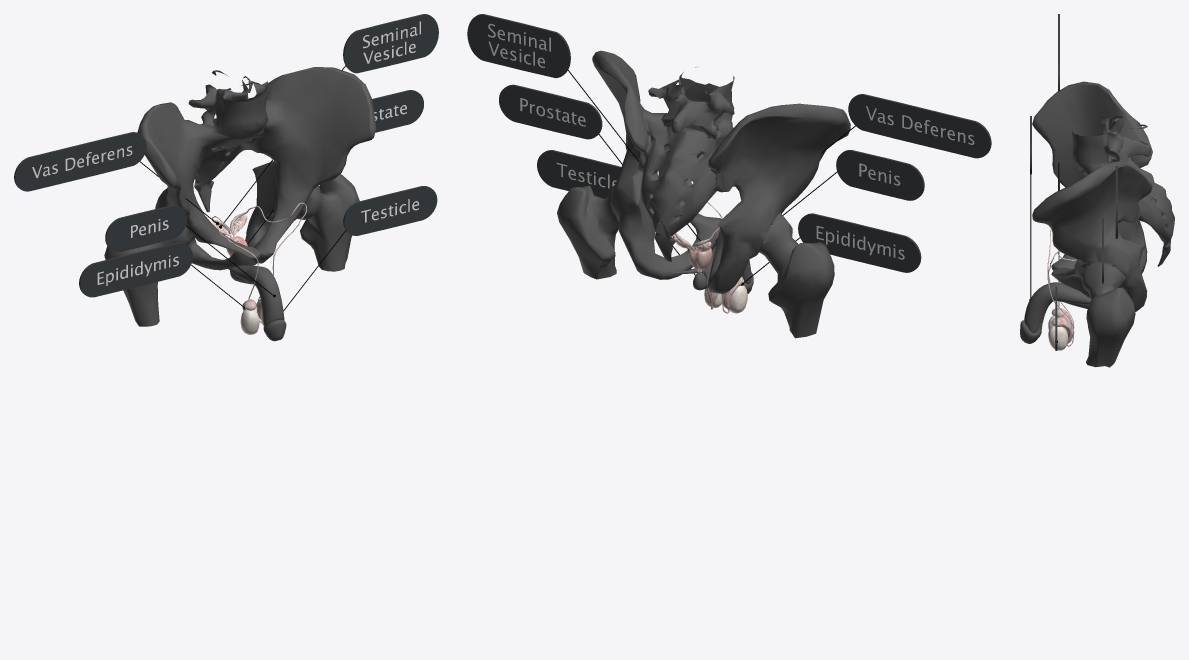
Rendered from maleReproductiveSystem.glb.
3 views of the same model, side by side, from view 1: azimuth 30°, elevation 25°; view 2: azimuth 150°, elevation 25°; view 3: azimuth 270°, elevation 25° (orthographic). The views are drawn at different scales.
Visible parts, largest first — view 1: male_reproductive_skeleton_stingray_v2:skeleton, LabelGroup2, corpus_cavernosum_of_penis, internal_genitalia; view 2: male_reproductive_skeleton_stingray_v2:skeleton, LabelGroup2, internal_genitalia; view 3: male_reproductive_skeleton_stingray_v2:skeleton, corpus_cavernosum_of_penis, LabelGroup2, internal_genitalia.
Part boxes in pixels (box(x1,y1,x2,y2)): male_reproductive_skeleton_stingray_v2:skeleton: box(104, 67, 375, 326); LabelGroup2: box(14, 14, 438, 311); corpus_cavernosum_of_penis: box(228, 265, 286, 341); internal_genitalia: box(212, 202, 306, 334); male_reproductive_skeleton_stingray_v2:skeleton: box(557, 50, 850, 338); LabelGroup2: box(467, 14, 991, 285); internal_genitalia: box(672, 181, 747, 313); male_reproductive_skeleton_stingray_v2:skeleton: box(1032, 81, 1174, 367); corpus_cavernosum_of_penis: box(1020, 282, 1090, 343); LabelGroup2: box(1029, 14, 1117, 350); internal_genitalia: box(1047, 229, 1076, 350).
Size of the model in its own units: 0.5995 by 0.708 by 0.1843.
Materials: 7 (2 with a texture image).
